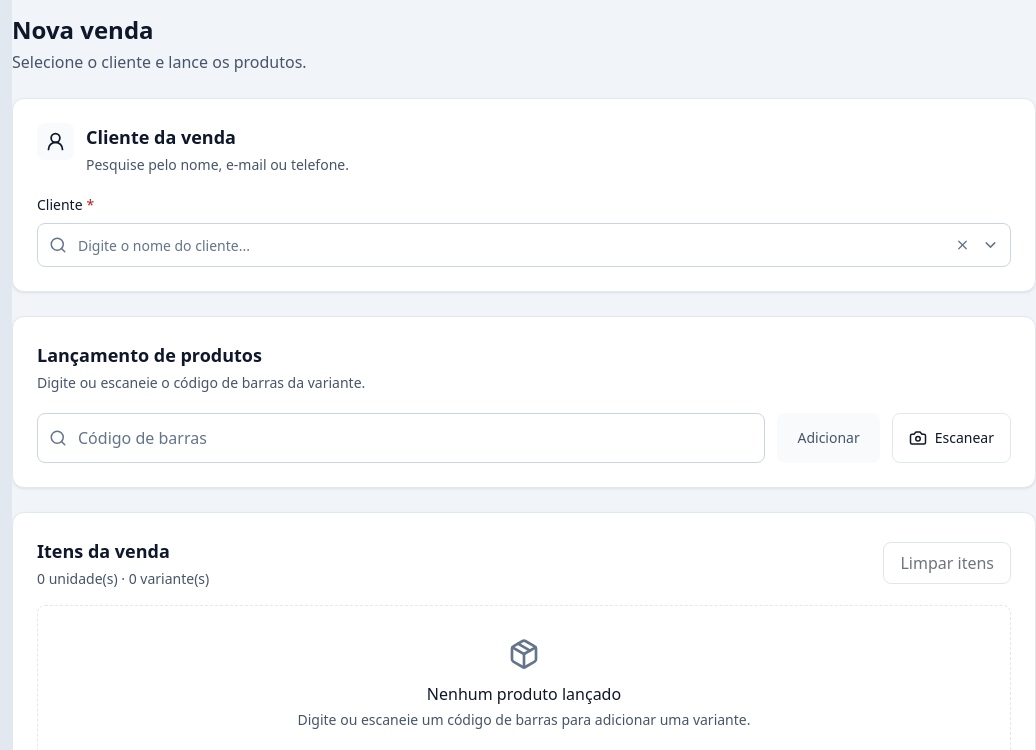
it: SaleCreatePage › variante sem preço mostra alerta e bloqueia Registrar venda
Type "Mar" into the dropdown with placeholder "Digite o nome do cliente..." at [524, 245], box [37,223,1011,267]
(page scrolled)
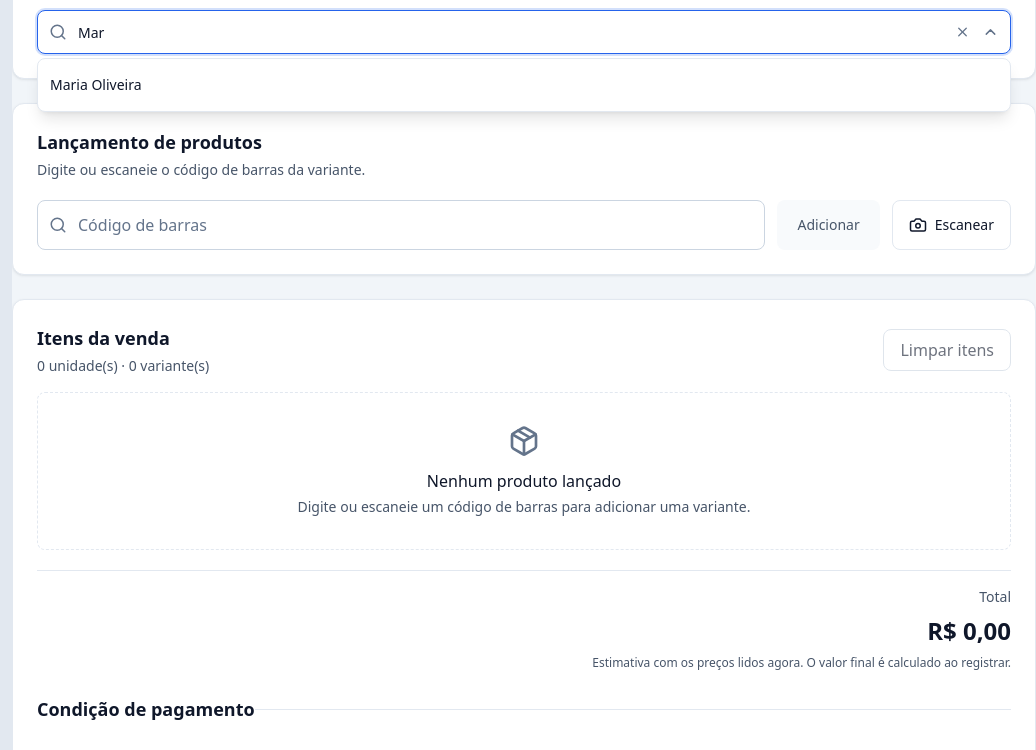
Click the button "Maria Oliveira" at [96, 84], box [38,63,1010,107]
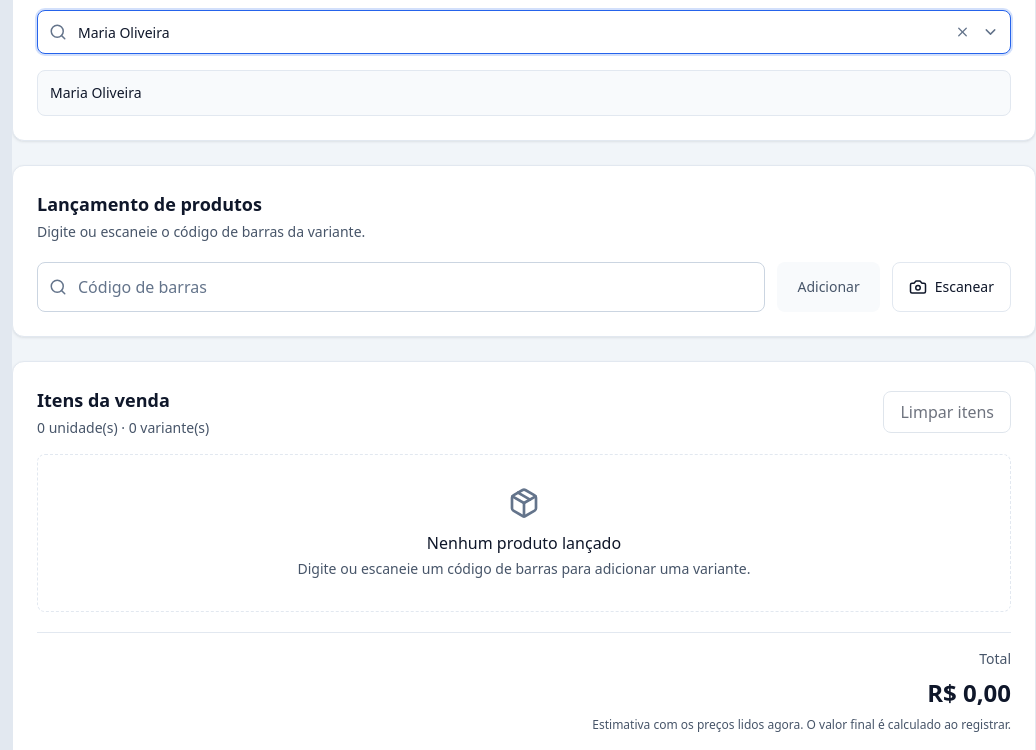
Type "222" into the field named "Código de barras do produto" at [401, 287], box [37,262,766,312]
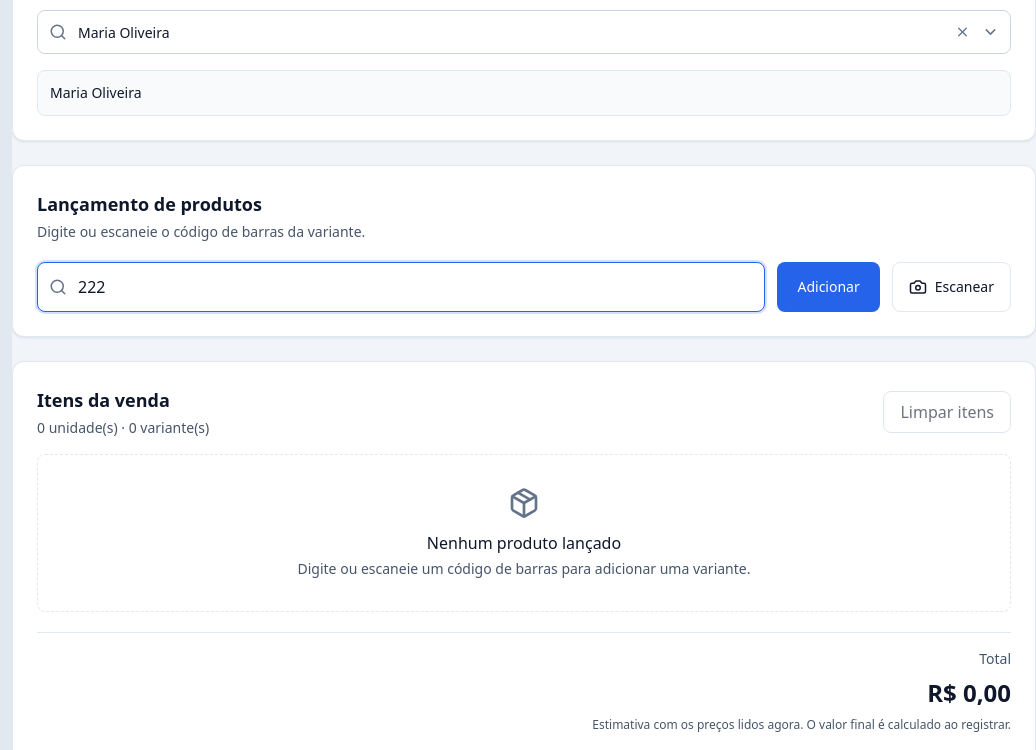
Click the button "Adicionar" at [829, 287], box [778,262,880,312]
(page scrolled)
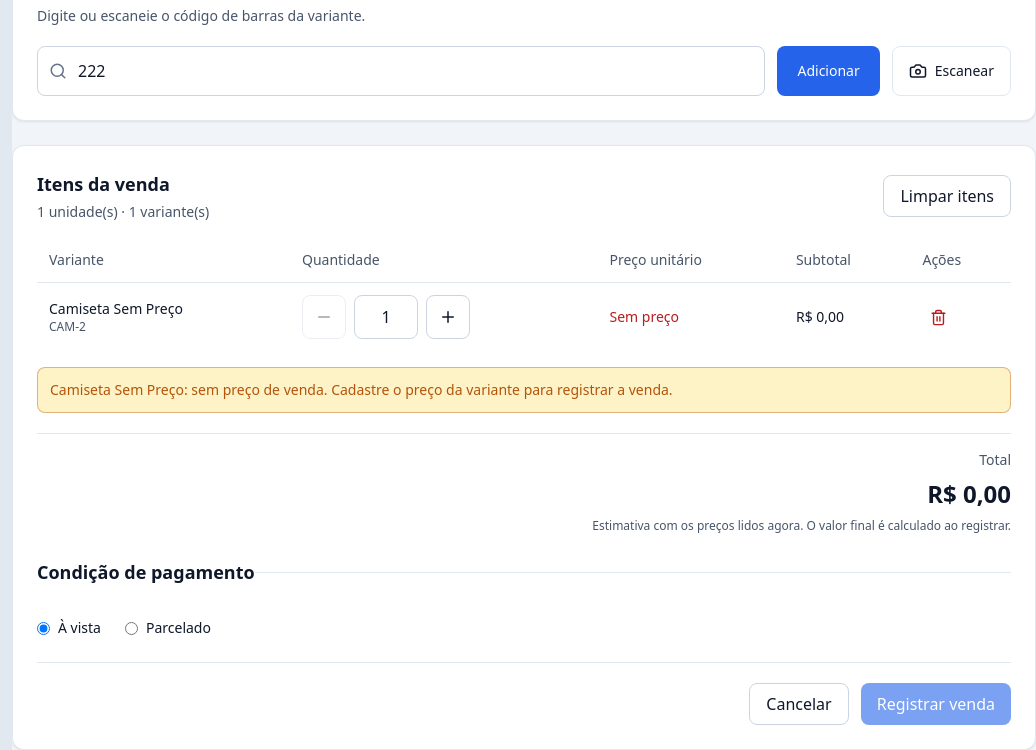
Expected: the button "Registrar venda" is disabled, [861,683,1011,725]
Expected: the text "sem preço de venda" is shown, [184,380,673,399]
